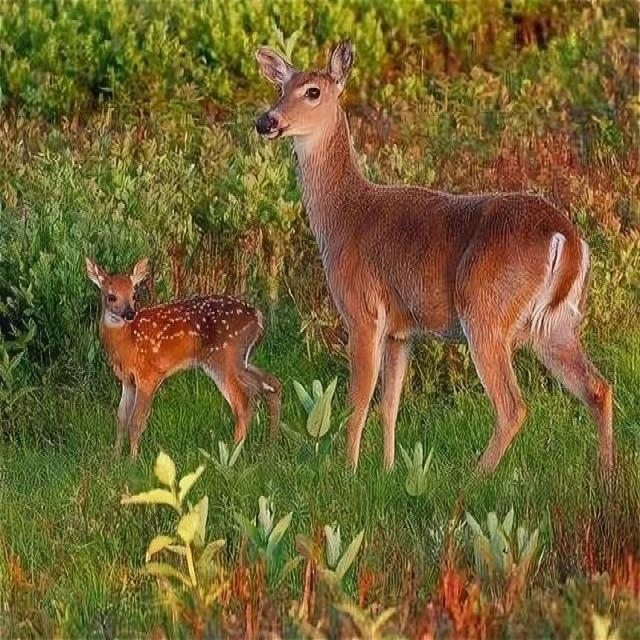deer: (222, 27, 640, 561), (38, 213, 314, 526)
